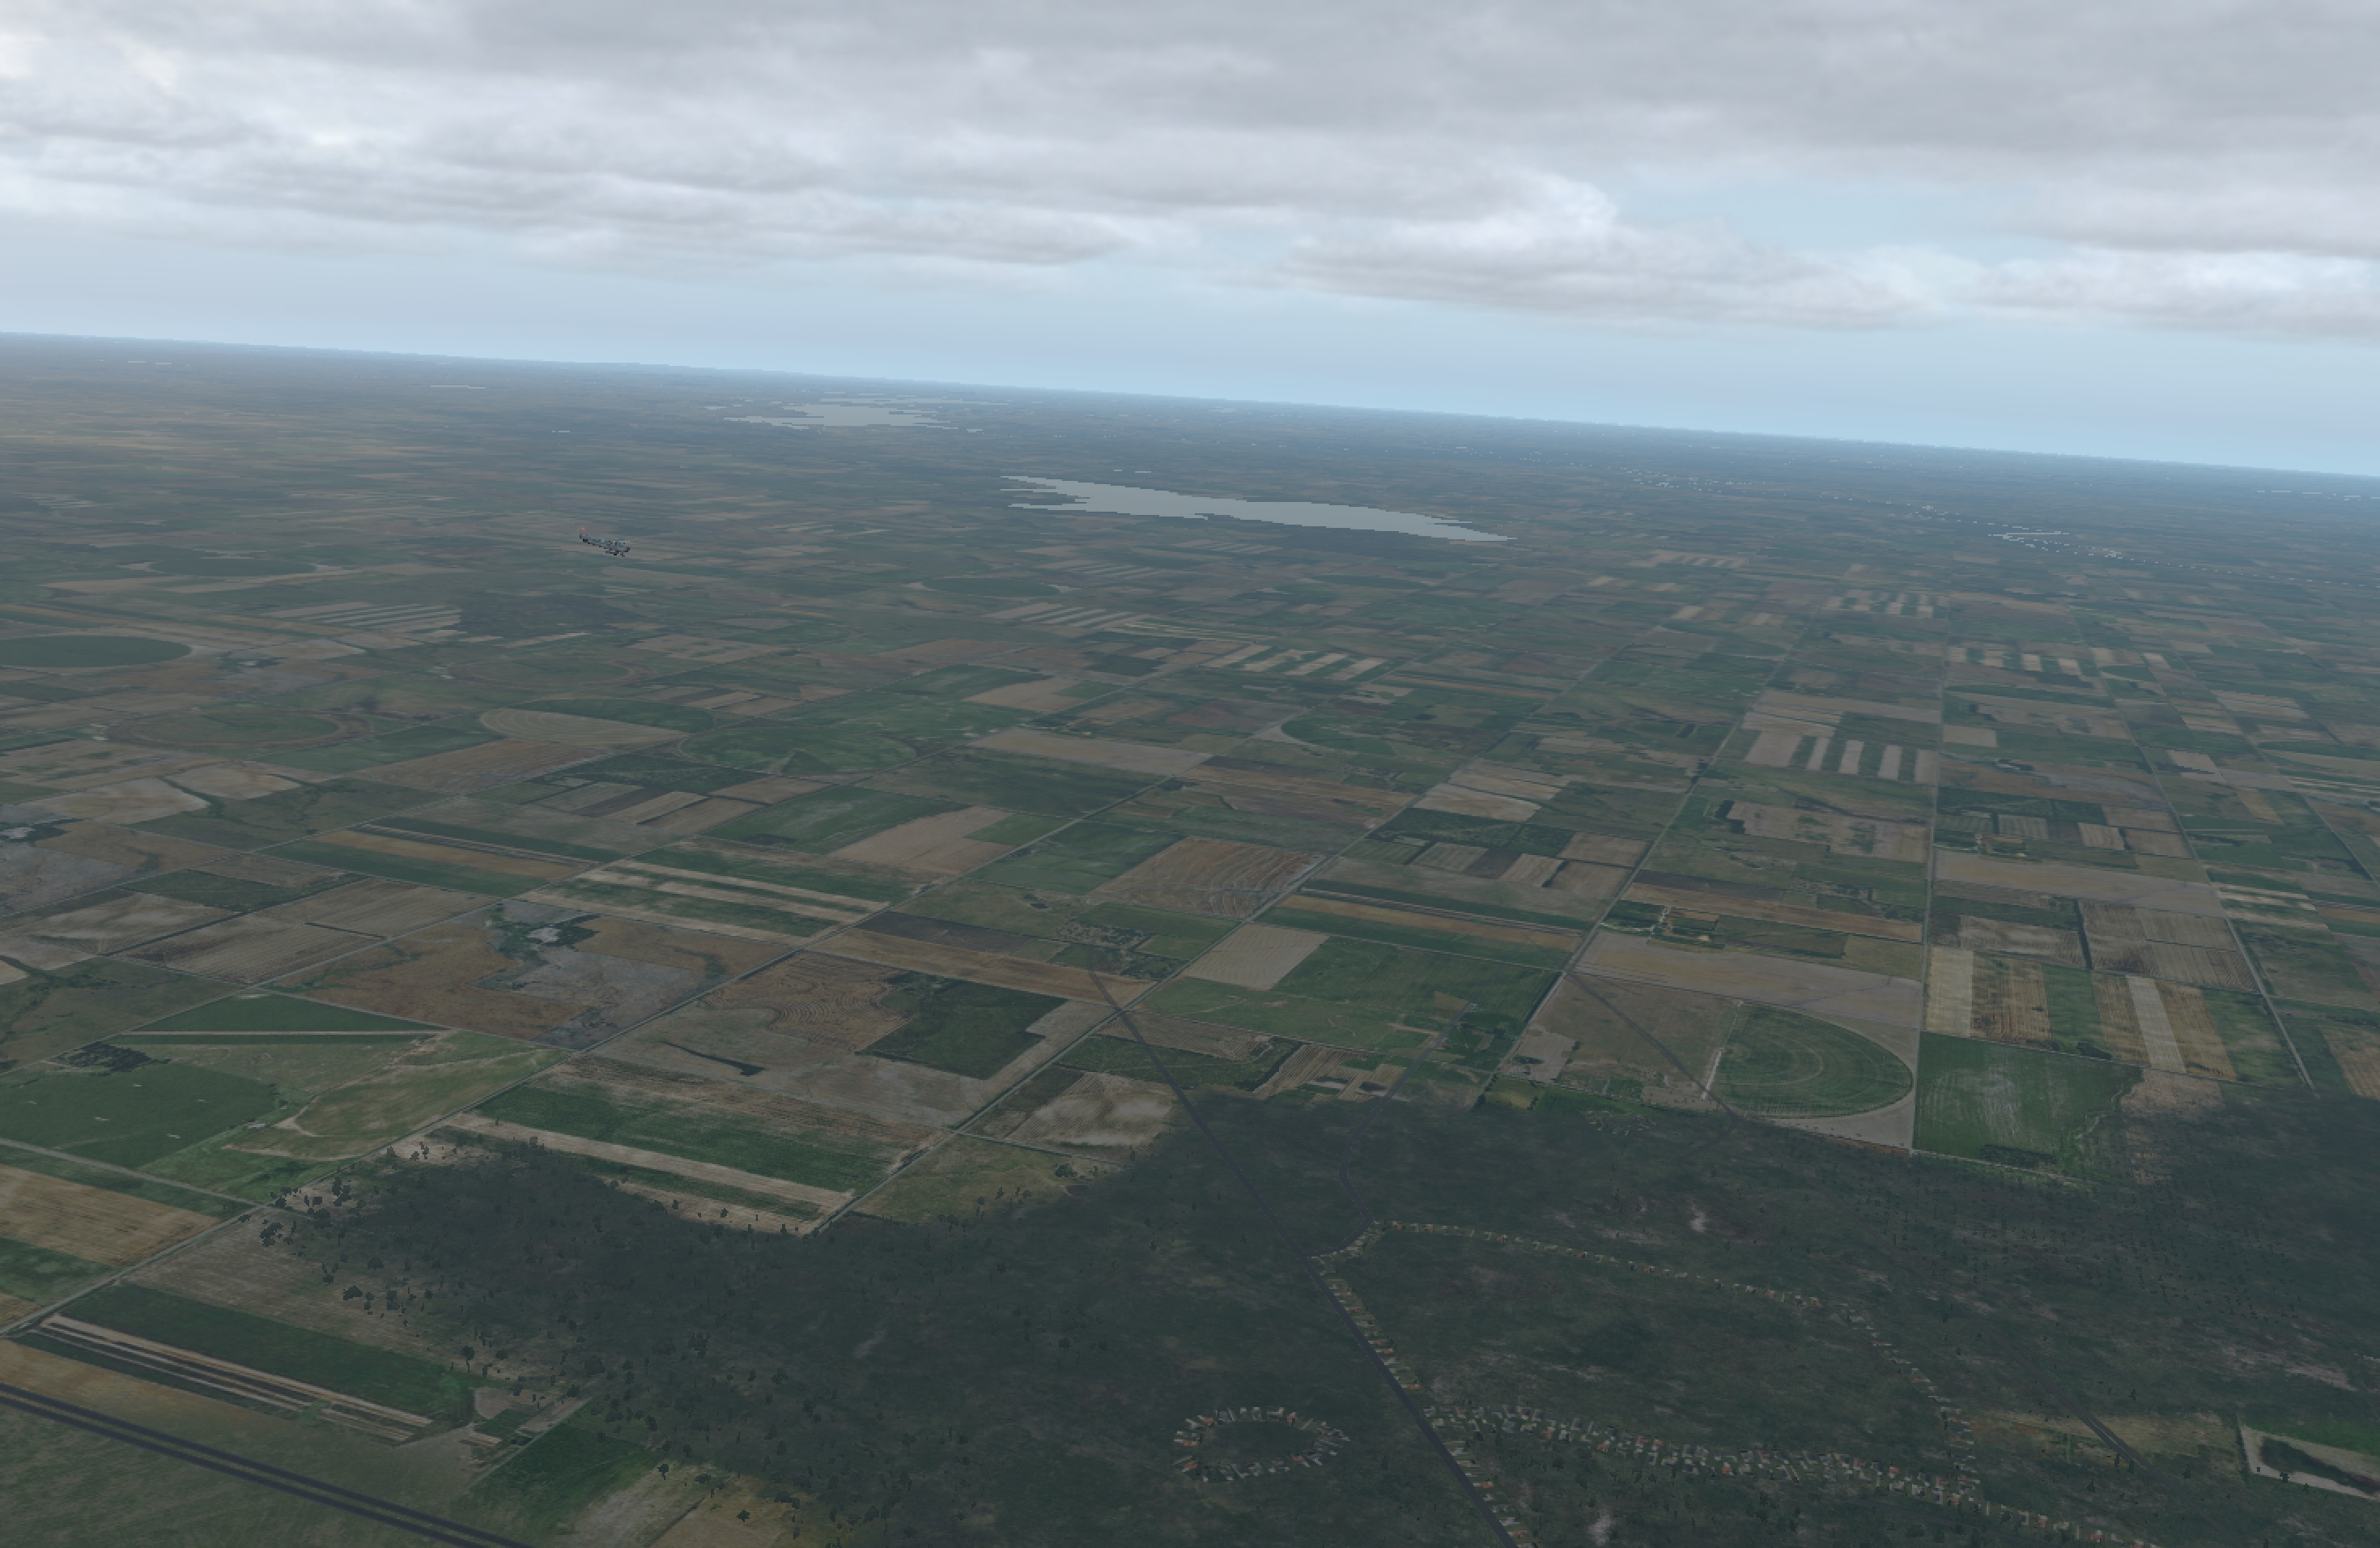aircraft: (590, 536, 642, 555)
